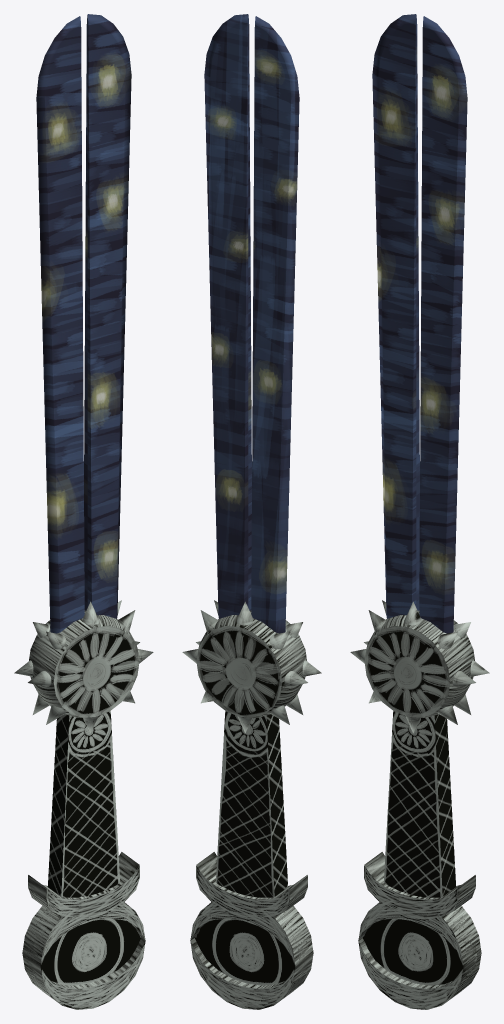
File: KhanSword.fbx
The picture shows the model from 3 angles, left to right: view 1: azimuth 30°, elevation 25°; view 2: azimuth 150°, elevation 25°; view 3: azimuth 330°, elevation 25°; orthographic projection.
Parts seen in each view (by area): view 1: Khan; view 2: Khan; view 3: Khan.
Part boxes in pixels (left/top/right/bottom): Khan: left=14, top=14, right=153, bottom=1009; Khan: left=182, top=14, right=321, bottom=1009; Khan: left=350, top=14, right=489, bottom=1009.
Bounding box in the file's own units: 1674 × 12486 × 579.
